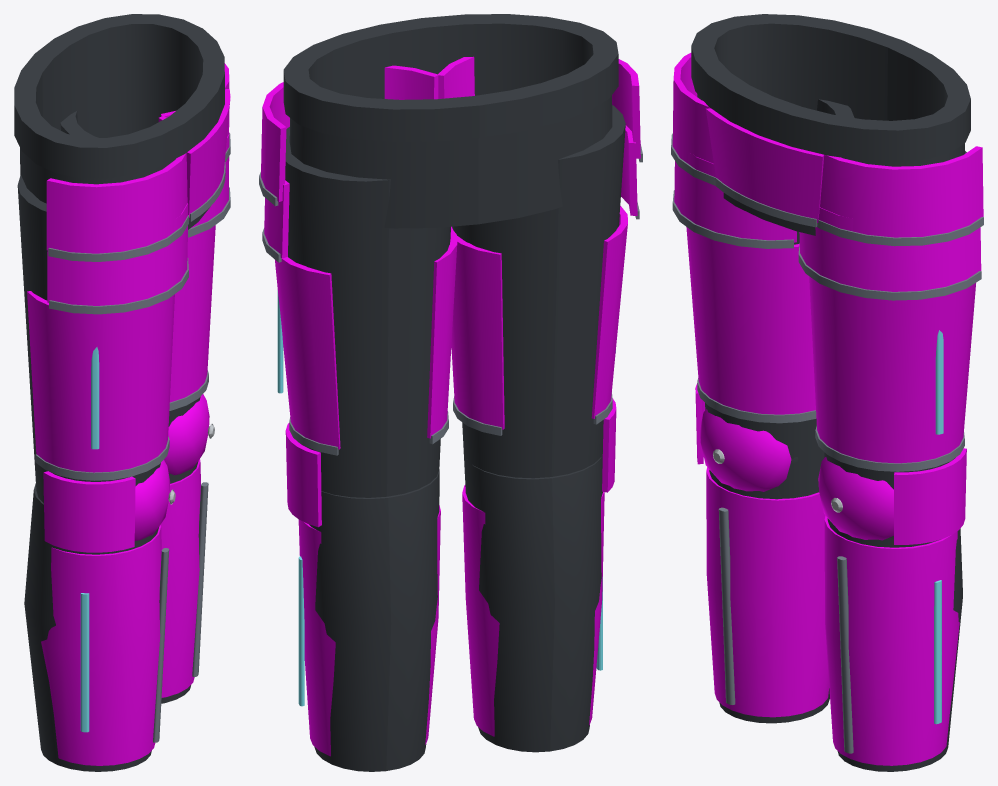
The model's file is objet_armure4_jambieres.glb.
3 renders of one model, left to right at view 1: azimuth 30°, elevation 25°; view 2: azimuth 150°, elevation 25°; view 3: azimuth 270°, elevation 25°, orthographic. The views are drawn at different scales.
Visible parts, largest first — view 1: cuisse_d__jambieres_teinte.010, jambe_d__jambieres_teinte.010, bassin__jambieres_teinte_sombre.008, jambe_g__jambieres_teinte.010, cuisse_g__jambieres_teinte.010, jambe_d__jambieres_teinte_sombre.008, cuisse_d__jambieres_teinte_sombre.008, cuisse_d__jambieres_acier_lisere.002, bassin__jambieres_teinte.010, jambe_d__jambieres_lueur.002, jambe_d__jambieres_acier_lisere.002, jambe_g__jambieres_acier_lisere.002 (+4 smaller); view 2: bassin__jambieres_teinte_sombre.008, cuisse_g__jambieres_teinte_sombre.008, cuisse_d__jambieres_teinte_sombre.008, jambe_d__jambieres_teinte_sombre.008, jambe_g__jambieres_teinte_sombre.008, cuisse_g__jambieres_teinte.010, cuisse_d__jambieres_teinte.010, jambe_g__jambieres_teinte.010, jambe_d__jambieres_teinte.010, cuisse_g__jambieres_acier_lisere.002, jambe_g__jambieres_lueur.002, cuisse_d__jambieres_acier_lisere.002; view 3: cuisse_g__jambieres_teinte.010, jambe_g__jambieres_teinte.010, bassin__jambieres_teinte_sombre.008, jambe_d__jambieres_teinte.010, cuisse_d__jambieres_teinte.010, bassin__jambieres_teinte.010, cuisse_g__jambieres_acier_lisere.002, cuisse_d__jambieres_teinte_sombre.008, cuisse_d__jambieres_acier_lisere.002, jambe_g__jambieres_teinte_sombre.008, jambe_d__jambieres_acier_lisere.002, jambe_g__jambieres_acier_lisere.002 (+5 smaller).
Part boxes in pixels (x1,y1,x2,y2): cuisse_d__jambieres_teinte.010: [27, 116, 188, 472]; jambe_d__jambieres_teinte.010: [41, 460, 170, 765]; bassin__jambieres_teinte_sombre.008: [14, 14, 224, 229]; jambe_g__jambieres_teinte.010: [160, 394, 209, 697]; cuisse_g__jambieres_teinte.010: [161, 63, 229, 402]; jambe_d__jambieres_teinte_sombre.008: [24, 483, 158, 771]; cuisse_d__jambieres_teinte_sombre.008: [17, 175, 160, 554]; cuisse_d__jambieres_acier_lisere.002: [35, 215, 188, 480]; bassin__jambieres_teinte.010: [186, 88, 230, 217]; jambe_d__jambieres_lueur.002: [80, 593, 89, 732]; jambe_d__jambieres_acier_lisere.002: [153, 548, 169, 742]; jambe_g__jambieres_acier_lisere.002: [192, 482, 208, 676]; bassin__jambieres_teinte_sombre.008: [283, 14, 618, 228]; cuisse_g__jambieres_teinte_sombre.008: [285, 127, 450, 497]; cuisse_d__jambieres_teinte_sombre.008: [452, 105, 625, 491]; jambe_d__jambieres_teinte_sombre.008: [465, 453, 602, 752]; jambe_g__jambieres_teinte_sombre.008: [309, 469, 439, 771]; cuisse_g__jambieres_teinte.010: [261, 65, 457, 449]; cuisse_d__jambieres_teinte.010: [437, 56, 640, 429]; jambe_g__jambieres_teinte.010: [285, 423, 440, 756]; jambe_d__jambieres_teinte.010: [462, 398, 616, 736]; cuisse_g__jambieres_acier_lisere.002: [259, 172, 448, 455]; jambe_g__jambieres_lueur.002: [298, 556, 304, 706]; cuisse_d__jambieres_acier_lisere.002: [453, 144, 642, 435]; cuisse_g__jambieres_teinte.010: [799, 146, 983, 463]; jambe_g__jambieres_teinte.010: [818, 448, 966, 765]; bassin__jambieres_teinte_sombre.008: [691, 14, 970, 235]; jambe_d__jambieres_teinte.010: [695, 383, 829, 717]; cuisse_d__jambieres_teinte.010: [672, 53, 815, 414]; bassin__jambieres_teinte.010: [706, 108, 824, 222]; cuisse_g__jambieres_acier_lisere.002: [798, 217, 983, 471]; cuisse_d__jambieres_teinte_sombre.008: [705, 99, 854, 498]; cuisse_d__jambieres_acier_lisere.002: [671, 133, 816, 423]; jambe_g__jambieres_teinte_sombre.008: [827, 518, 962, 771]; jambe_d__jambieres_acier_lisere.002: [718, 507, 735, 704]; jambe_g__jambieres_acier_lisere.002: [837, 556, 853, 753].
Size of the model in its own units: 0.133 by 0.3113 by 0.1351.
